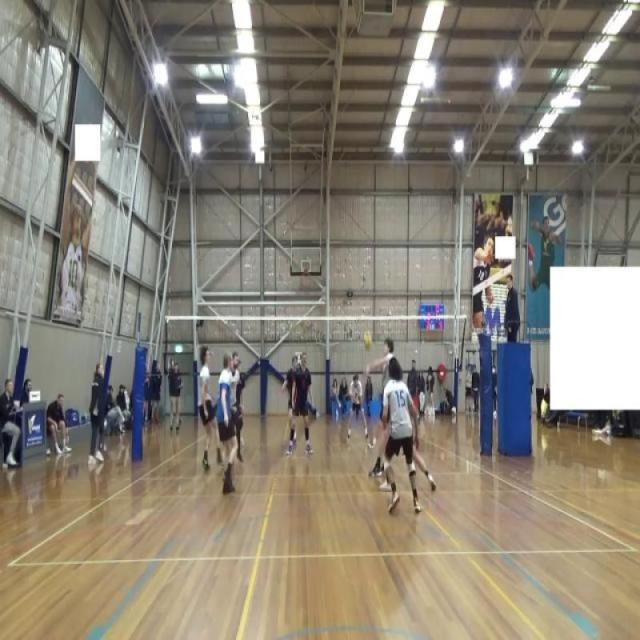volleyball: (362, 328, 374, 354)
